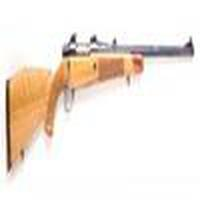gun: (1, 42, 198, 168)
